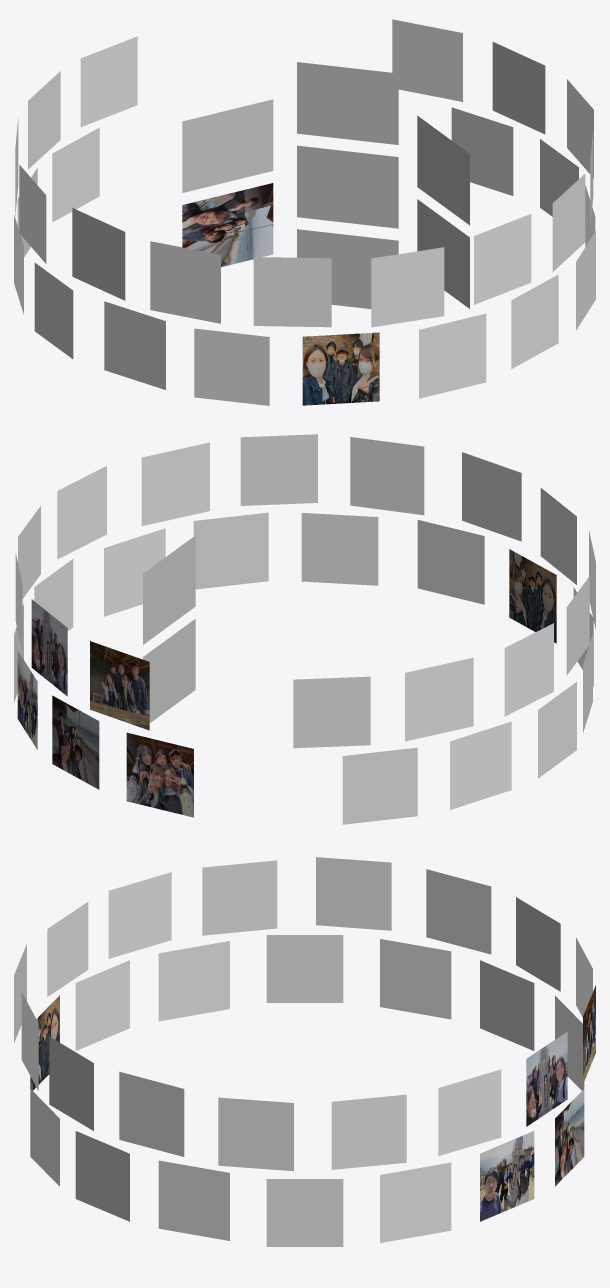
Rendered from Photo2.glb.
The picture shows the model from 3 angles, top to bottom: view 1: azimuth 30°, elevation 25°; view 2: azimuth 150°, elevation 25°; view 3: azimuth 270°, elevation 25°; orthographic projection.
Parts seen in each view (by area): view 1: 平面.003, 平面.004, 平面.001, 平面, 平面20, 平面19, 平面21, 平面18, 平面22, 平面6, 平面17, 平面.006 (+18 smaller); view 2: 平面14, 平面30, 平面15, 平面29, 平面16, 平面13, 平面28, 平面12, 平面1, 平面17, 平面27, 平面2 (+17 smaller); view 3: 平面9, 平面25, 平面26, 平面24, 平面8, 平面10, 平面23, 平面11, 平面27, 平面7, 平面28, 平面12 (+18 smaller).
Part boxes in pixels (x1=…): 平面.003: x1=297, y1=145, x2=398, y2=228; 平面.004: x1=297, y1=62, x2=398, y2=144; 平面.001: x1=182, y1=99, x2=273, y2=192; 平面: x1=182, y1=183, x2=273, y2=266; 平面20: x1=253, y1=257, x2=331, y2=327; 平面19: x1=302, y1=332, x2=379, y2=405; 平面21: x1=194, y1=328, x2=269, y2=405; 平面18: x1=371, y1=247, x2=444, y2=327; 平面22: x1=150, y1=241, x2=220, y2=323; 平面6: x1=392, y1=19, x2=462, y2=101; 平面17: x1=419, y1=313, x2=486, y2=398; 平面.006: x1=297, y1=229, x2=398, y2=308; 平面14: x1=240, y1=434, x2=317, y2=505; 平面30: x1=293, y1=676, x2=370, y2=748; 平面15: x1=301, y1=513, x2=378, y2=585; 平面29: x1=342, y1=747, x2=417, y2=824; 平面16: x1=350, y1=437, x2=424, y2=515; 平面13: x1=193, y1=512, x2=268, y2=589; 平面28: x1=405, y1=657, x2=473, y2=741; 平面12: x1=141, y1=442, x2=209, y2=525; 平面1: x1=126, y1=732, x2=193, y2=817; 平面17: x1=417, y1=520, x2=484, y2=604; 平面27: x1=450, y1=721, x2=511, y2=809; 平面2: x1=90, y1=641, x2=149, y2=730; 平面9: x1=266, y1=1179, x2=343, y2=1246; 平面25: x1=266, y1=935, x2=343, y2=1002; 平面26: x1=316, y1=857, x2=391, y2=930; 平面24: x1=202, y1=860, x2=277, y2=935; 平面8: x1=331, y1=1094, x2=406, y2=1169; 平面10: x1=218, y1=1097, x2=293, y2=1171; 平面23: x1=158, y1=941, x2=229, y2=1021; 平面11: x1=158, y1=1160, x2=229, y2=1240; 平面27: x1=380, y1=939, x2=451, y2=1019; 平面7: x1=380, y1=1162, x2=451, y2=1242; 平面28: x1=426, y1=869, x2=491, y2=954; 平面12: x1=119, y1=1071, x2=184, y2=1156.
Bounding box in the file's own units: 22.34 × 10 × 22.34.
Materials: 32 (6 with a texture image).
